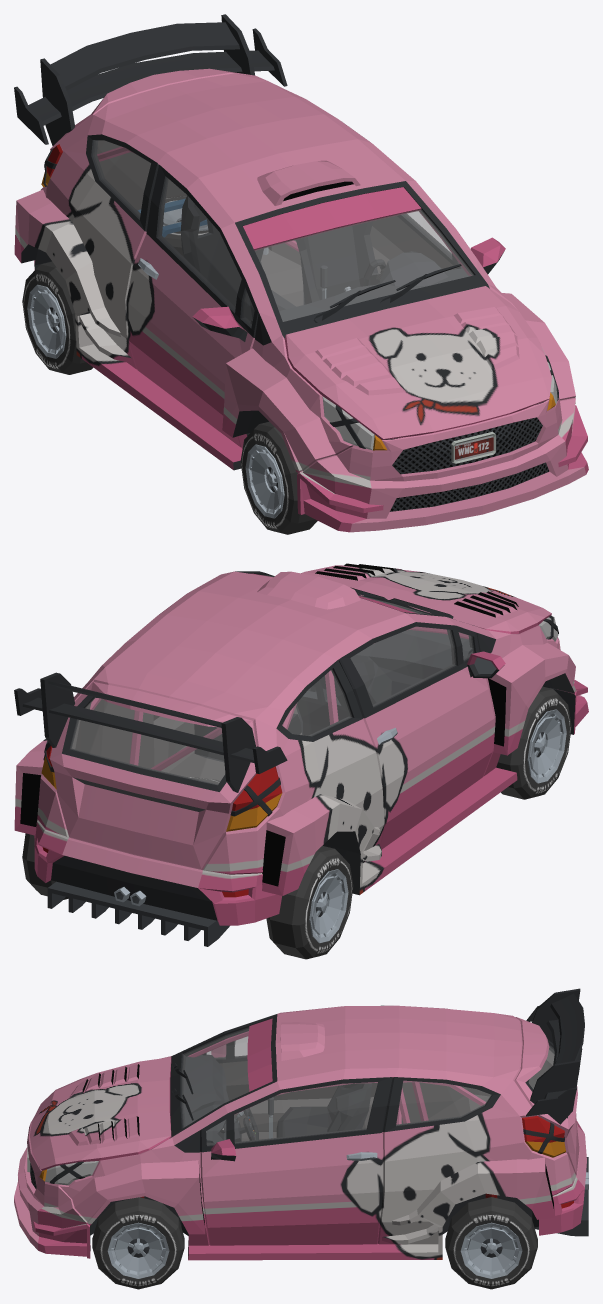
Rendered from SK_Veh_Preset_Hatch_03.fbx.
3 renders of one model, top to bottom at view 1: azimuth 30°, elevation 25°; view 2: azimuth 150°, elevation 25°; view 3: azimuth 270°, elevation 25°, orthographic. The views are drawn at different scales.
Parts seen in each view (by area): view 1: SK_Veh_Preset_Hatch_03, SK_Veh_Hatch_03_Bonnet_03, SK_Veh_Hatch_03_Front_Bumper_03, SK_Veh_Hatch_03_Door_R, SK_Veh_Hatch_03_Glass, SK_Veh_Hatch_03_Fenders_03, SK_Veh_Hatch_03_Spoiler_03, SK_Veh_Hatch_03_Side_Skirts_03, SK_Veh_Hatch_03_Wheel_fr, SK_Veh_Hatch_03_Windscreen_Sticker_01, SK_Veh_Hatch_03_Wheel_rr, SK_Veh_Hatch_03_Seat_07 (+6 smaller); view 2: SK_Veh_Preset_Hatch_03, SK_Veh_Hatch_03_Door_R, SK_Veh_Hatch_03_Boot, SK_Veh_Hatch_03_Rear_Bumper_03, SK_Veh_Hatch_03_Fenders_03, SK_Veh_Hatch_03_Spoiler_03, SK_Veh_Hatch_03_Bonnet_03, SK_Veh_Hatch_03_Boot_Glass, SK_Veh_Hatch_03_Wheel_rr, SK_Veh_Hatch_03_Side_Skirts_03, SK_Veh_Hatch_03_Wheel_fr, SK_Veh_Hatch_03_Glass (+8 smaller); view 3: SK_Veh_Preset_Hatch_03, SK_Veh_Hatch_03_Door_L, SK_Veh_Hatch_03_Bonnet_03, SK_Veh_Hatch_03_Fenders_03, SK_Veh_Hatch_03_Glass, SK_Veh_Hatch_03_Wheel_rl, SK_Veh_Hatch_03_Wheel_fl, SK_Veh_Hatch_03_Front_Bumper_03, SK_Veh_Hatch_03_Spoiler_03, SK_Veh_Hatch_03_Side_Skirts_03, SK_Veh_Hatch_03_Door_R, SK_Veh_Hatch_03_Boot (+7 smaller).
Part boxes in pixels (x1,y1,x2,y2): SK_Veh_Preset_Hatch_03: [41, 73, 557, 455]; SK_Veh_Hatch_03_Bonnet_03: [284, 286, 551, 439]; SK_Veh_Hatch_03_Front_Bumper_03: [297, 397, 588, 532]; SK_Veh_Hatch_03_Door_R: [126, 165, 258, 447]; SK_Veh_Hatch_03_Glass: [93, 140, 473, 321]; SK_Veh_Hatch_03_Fenders_03: [14, 189, 575, 472]; SK_Veh_Hatch_03_Spoiler_03: [14, 14, 287, 145]; SK_Veh_Hatch_03_Side_Skirts_03: [75, 307, 242, 470]; SK_Veh_Hatch_03_Wheel_fr: [240, 421, 317, 534]; SK_Veh_Hatch_03_Windscreen_Sticker_01: [243, 187, 421, 250]; SK_Veh_Hatch_03_Wheel_rr: [22, 261, 93, 374]; SK_Veh_Hatch_03_Seat_07: [296, 221, 379, 304]; SK_Veh_Preset_Hatch_03: [37, 571, 558, 874]; SK_Veh_Hatch_03_Door_R: [338, 622, 505, 849]; SK_Veh_Hatch_03_Boot: [50, 682, 256, 870]; SK_Veh_Hatch_03_Rear_Bumper_03: [34, 819, 281, 946]; SK_Veh_Hatch_03_Fenders_03: [14, 642, 575, 895]; SK_Veh_Hatch_03_Spoiler_03: [14, 672, 287, 792]; SK_Veh_Hatch_03_Bonnet_03: [301, 563, 551, 633]; SK_Veh_Hatch_03_Boot_Glass: [70, 698, 224, 784]; SK_Veh_Hatch_03_Wheel_rr: [266, 846, 353, 959]; SK_Veh_Hatch_03_Side_Skirts_03: [341, 767, 517, 895]; SK_Veh_Hatch_03_Wheel_fr: [496, 686, 571, 799]; SK_Veh_Hatch_03_Glass: [265, 575, 428, 735]; SK_Veh_Preset_Hatch_03: [39, 1005, 576, 1245]; SK_Veh_Hatch_03_Door_L: [200, 1077, 392, 1245]; SK_Veh_Hatch_03_Bonnet_03: [30, 1057, 171, 1170]; SK_Veh_Hatch_03_Fenders_03: [72, 1157, 554, 1234]; SK_Veh_Hatch_03_Glass: [182, 1028, 491, 1127]; SK_Veh_Hatch_03_Wheel_rl: [445, 1197, 537, 1289]; SK_Veh_Hatch_03_Wheel_fl: [92, 1197, 184, 1289]; SK_Veh_Hatch_03_Front_Bumper_03: [14, 1121, 90, 1258]; SK_Veh_Hatch_03_Spoiler_03: [526, 988, 584, 1124]; SK_Veh_Hatch_03_Side_Skirts_03: [188, 1209, 442, 1260]; SK_Veh_Hatch_03_Door_R: [202, 1005, 383, 1131]; SK_Veh_Hatch_03_Boot: [514, 1017, 579, 1175].
Bounding box in the file's own units: 228 × 187 × 457.
